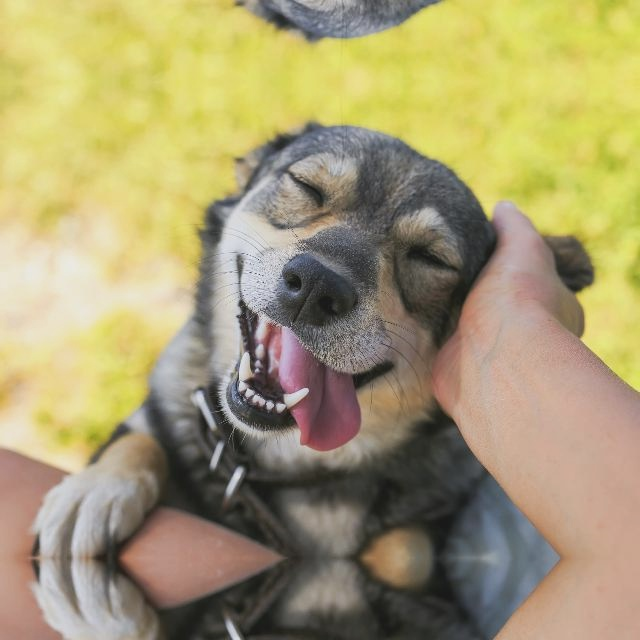dog: (153, 109, 517, 451), (153, 0, 517, 53)
